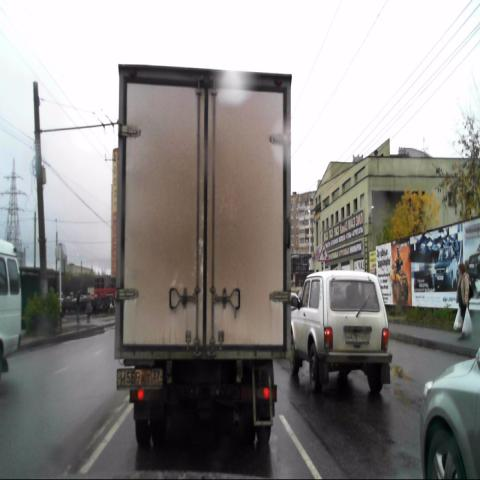1_25: (318, 242, 330, 262)
